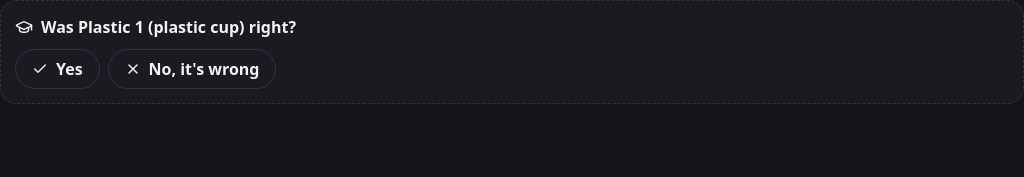
shows the server's message when feedback fails
The image size is (1024, 177).
Click the button "Yes". click: point(57, 69)
box: [15,49,100,89]
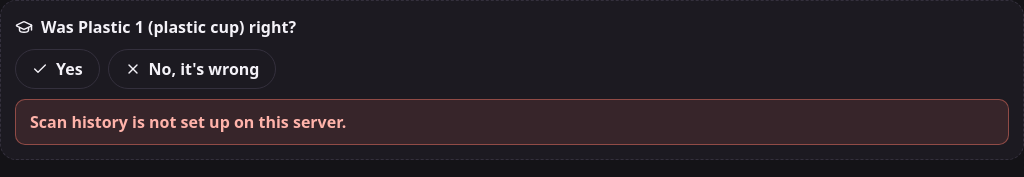
Check: the text "Scan history is not set up on this server." is shown, box [15,99,1009,145]
